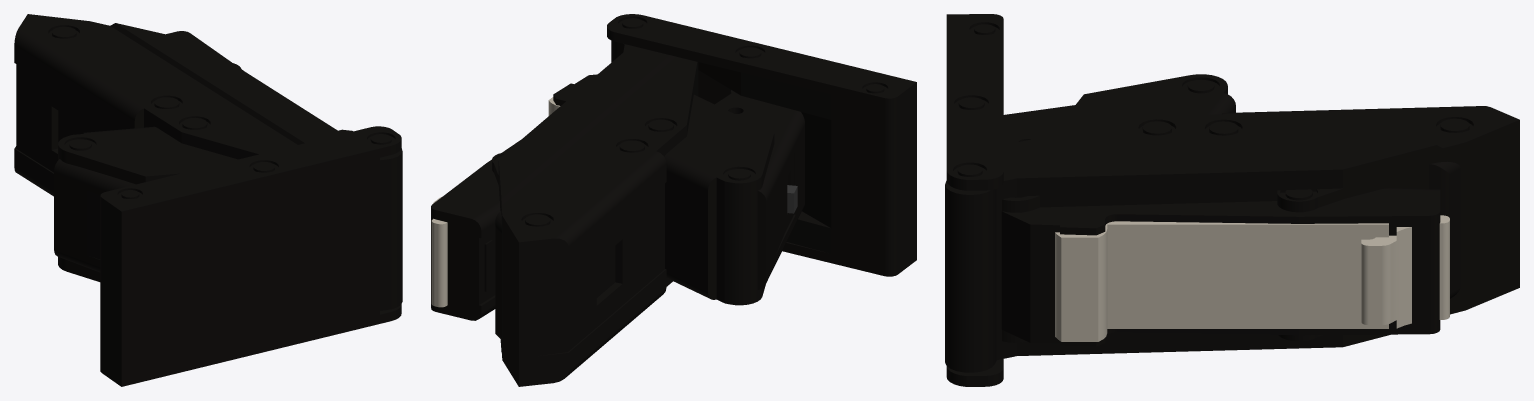
The picture shows the model from 3 angles, left to right: view 1: azimuth 30°, elevation 25°; view 2: azimuth 150°, elevation 25°; view 3: azimuth 270°, elevation 25°; orthographic projection. The views are drawn at different scales.
Visible parts, largest first — view 1: bau0082120221-1, bau0082118369-1, bau0082071794-1, bau0082109884-1; view 2: bau0082118369-1, bau0082120221-1, bau0082071794-1, bau0082065270-1, bau0082109884-1, bau0019426112-1, bau0082072085-1; view 3: bau0082118369-1, bau0019426112-1, bau0082065270-1, bau0082120221-1, bau0082071794-1, bau0082072085-1, bau0082109884-1.
Part boxes in pixels (box(x1,y1,x2,y2)): bau0082120221-1: box(100, 126, 401, 386); bau0082118369-1: box(14, 14, 402, 310); bau0082071794-1: box(58, 126, 237, 281); bau0082109884-1: box(54, 159, 135, 272); bau0082118369-1: box(498, 40, 698, 386); bau0082120221-1: box(607, 14, 916, 276); bau0082071794-1: box(664, 94, 774, 305); bau0082065270-1: box(431, 74, 597, 320); bau0082109884-1: box(715, 90, 804, 289); bau0019426112-1: box(431, 97, 560, 307); bau0082072085-1: box(492, 152, 506, 339); bau0082118369-1: box(945, 106, 1519, 372); bau0019426112-1: box(1055, 215, 1449, 341); bau0082065270-1: box(1001, 188, 1440, 346); bau0082120221-1: box(946, 14, 1003, 386); bau0082071794-1: box(1002, 74, 1235, 342); bau0082072085-1: box(1277, 161, 1460, 341); bau0082109884-1: box(1003, 105, 1074, 144).
Size of the model in its own units: 53.5 by 30 by 75.5.
